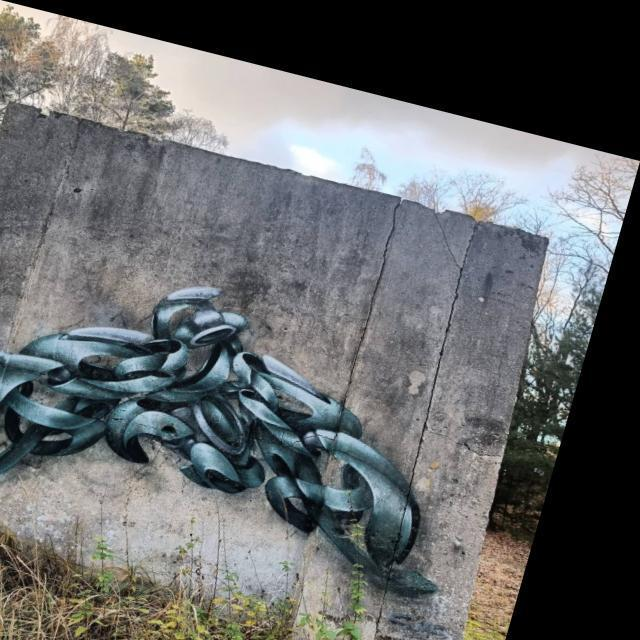-: (0, 212, 525, 576)
